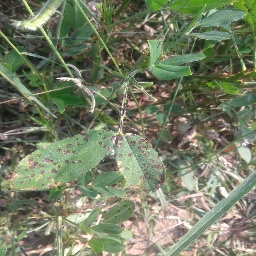GroundNut_Leaf: (9, 130, 118, 194), (120, 133, 166, 192), (151, 52, 204, 78), (68, 15, 99, 46), (99, 201, 134, 225), (147, 1, 229, 11), (189, 28, 234, 43), (1, 46, 25, 74), (90, 237, 125, 253), (53, 90, 65, 117)
